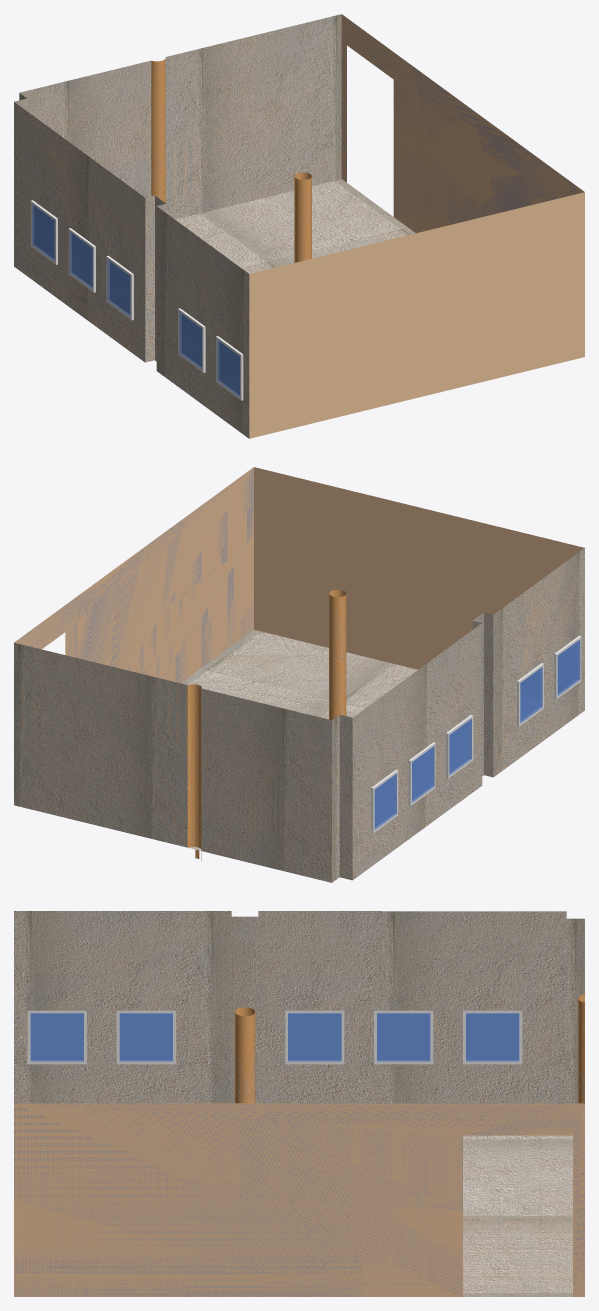
The model's file is AUL022.obj.
3 views of the same model, one above another, from view 1: azimuth 30°, elevation 25°; view 2: azimuth 150°, elevation 25°; view 3: azimuth 270°, elevation 25° (orthographic). The views are drawn at different scales.
Visible parts, largest first — view 1: Mesh16 AUL022 Model, Mesh17 AUL022 Model, Mesh4 Group2 AUL022 Model, Mesh7 Group3 AUL022 Model, Mesh10 Group4 AUL022 Model, Mesh13 Group5 AUL022 Model, Mesh1 Group1 AUL022 Model; view 2: Mesh16 AUL022 Model, Mesh17 AUL022 Model, Mesh1 Group1 AUL022 Model, Mesh7 Group3 AUL022 Model, Mesh10 Group4 AUL022 Model, Mesh13 Group5 AUL022 Model, Mesh4 Group2 AUL022 Model; view 3: Mesh16 AUL022 Model, Mesh1 Group1 AUL022 Model, Mesh4 Group2 AUL022 Model, Mesh7 Group3 AUL022 Model, Mesh10 Group4 AUL022 Model, Mesh13 Group5 AUL022 Model, Mesh17 AUL022 Model.
Part boxes in pixels (left/top/right/bottom): Mesh16 AUL022 Model: left=14, top=14, right=584, bottom=438; Mesh17 AUL022 Model: left=294, top=172, right=311, bottom=262; Mesh4 Group2 AUL022 Model: left=178, top=308, right=205, bottom=372; Mesh7 Group3 AUL022 Model: left=106, top=255, right=133, bottom=320; Mesh10 Group4 AUL022 Model: left=68, top=228, right=95, bottom=292; Mesh13 Group5 AUL022 Model: left=30, top=200, right=57, bottom=264; Mesh1 Group1 AUL022 Model: left=216, top=336, right=243, bottom=400; Mesh16 AUL022 Model: left=14, top=467, right=584, bottom=882; Mesh17 AUL022 Model: left=329, top=590, right=346, bottom=720; Mesh1 Group1 AUL022 Model: left=554, top=635, right=581, bottom=699; Mesh7 Group3 AUL022 Model: left=446, top=715, right=473, bottom=778; Mesh10 Group4 AUL022 Model: left=408, top=742, right=435, bottom=805; Mesh13 Group5 AUL022 Model: left=371, top=769, right=398, bottom=833; Mesh4 Group2 AUL022 Model: left=517, top=663, right=543, bottom=726; Mesh16 AUL022 Model: left=14, top=911, right=584, bottom=1296; Mesh1 Group1 AUL022 Model: left=27, top=1010, right=86, bottom=1064; Mesh4 Group2 AUL022 Model: left=116, top=1010, right=175, bottom=1064; Mesh7 Group3 AUL022 Model: left=285, top=1010, right=344, bottom=1064; Mesh10 Group4 AUL022 Model: left=374, top=1010, right=433, bottom=1064; Mesh13 Group5 AUL022 Model: left=463, top=1010, right=522, bottom=1064; Mesh17 AUL022 Model: left=234, top=1007, right=255, bottom=1103.
Size of the model in its own units: 7.72 by 3.85 by 9.63.
